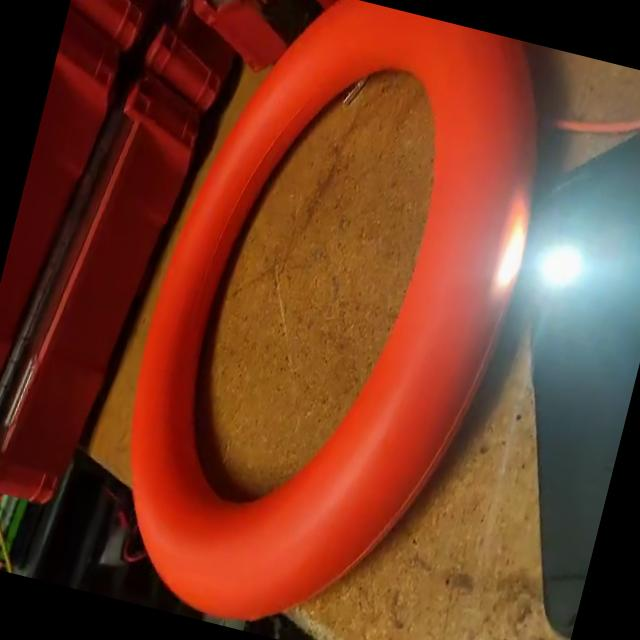note: (79, 0, 583, 640)
